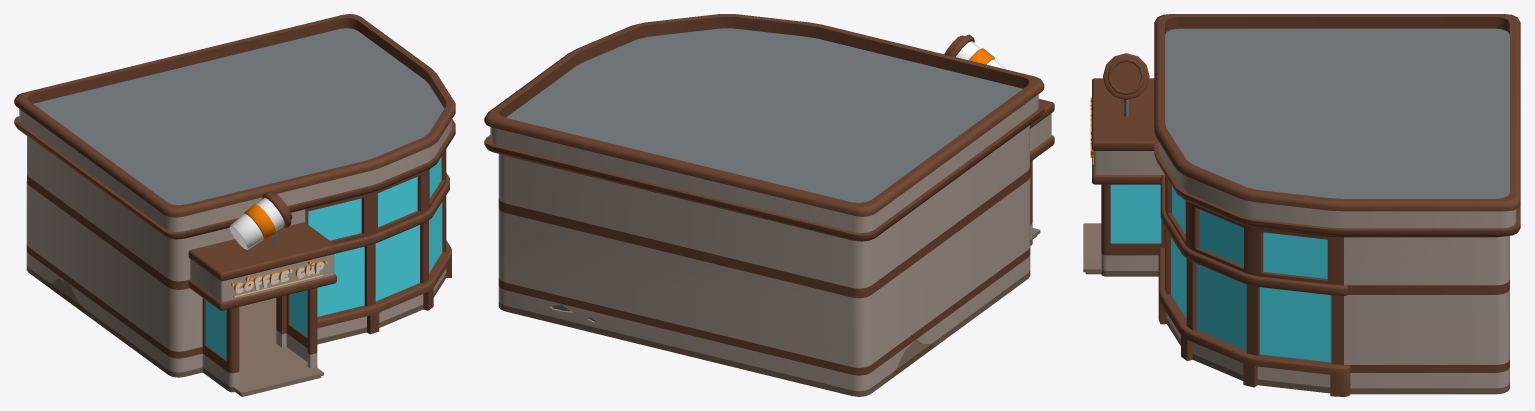
Rendered from SM_Buildings_Commercial_17.fbx.
The picture shows the model from 3 angles, left to right: view 1: azimuth 30°, elevation 25°; view 2: azimuth 150°, elevation 25°; view 3: azimuth 270°, elevation 25°; orthographic projection. The views are drawn at different scales.
Visible parts, largest first — view 1: SM_Buildings_Commercial_17; view 2: SM_Buildings_Commercial_17; view 3: SM_Buildings_Commercial_17.
Boxes of the visible parts, bbox=[...] form: SM_Buildings_Commercial_17: bbox=[14, 14, 455, 396]; SM_Buildings_Commercial_17: bbox=[484, 14, 1054, 396]; SM_Buildings_Commercial_17: bbox=[1083, 14, 1520, 396].
Size of the model in its own units: 10.5 by 5.2 by 10.15.
